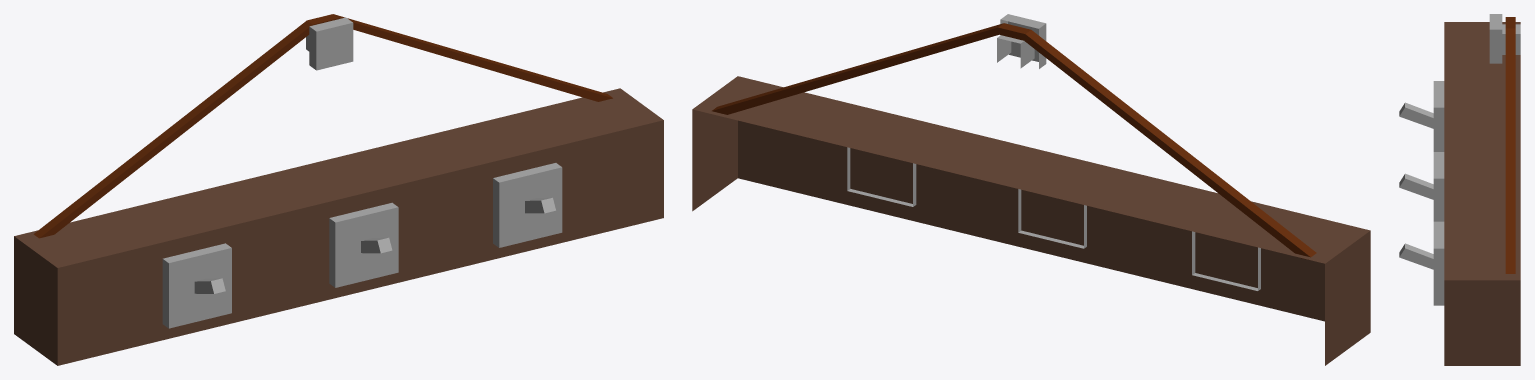
The model's file is Key Holder 01.FBX.
3 renders of one model, left to right at view 1: azimuth 30°, elevation 25°; view 2: azimuth 150°, elevation 25°; view 3: azimuth 270°, elevation 25°, orthographic. The views are drawn at different scales.
Parts seen in each view (by area): view 1: Key Holder 01; view 2: Key Holder 01; view 3: Key Holder 01.
Part boxes in pixels (x1,y1,x2,y2): Key Holder 01: [14, 14, 663, 365]; Key Holder 01: [692, 14, 1370, 365]; Key Holder 01: [1399, 14, 1520, 365].
Size of the model in its own units: 101 by 39.03 by 19.98.
